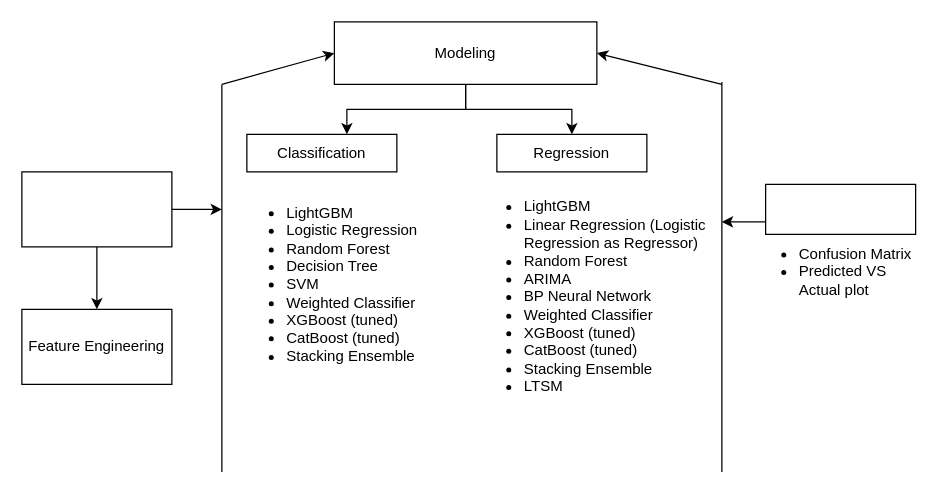
This 944x495 diagram has some shape labels left out. Each missing label, with the box of its shape:
Data Preprocessing: (21, 171, 172, 247)
Evaluation: (764, 183, 916, 234)
